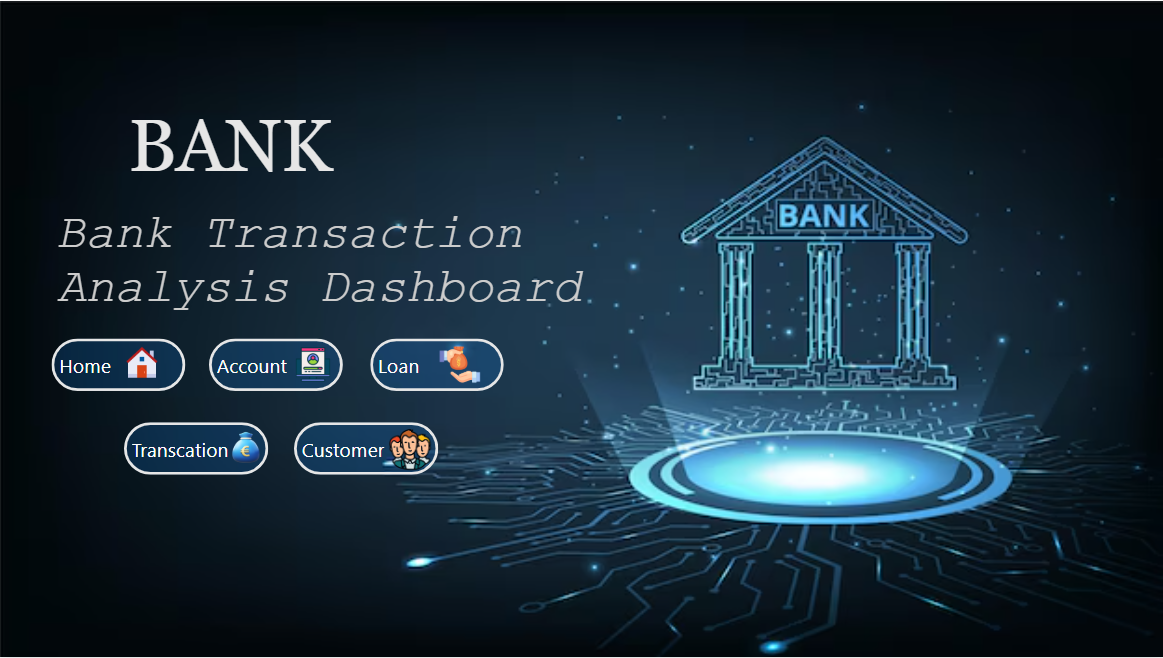

The dashboard page shown, as its layout file describes it:
{"tool":"powerbi","page":{"name":"Home page","canvas":[1280,720],"ordinal":1},"visuals":[{"type":"textbox","box":[137,108.1,353.2,128.3],"z":0},{"type":"textbox","box":[57.7,220.6,638.7,149.9],"z":1000},{"type":"shape","box":[57.7,370.5,147.1,57.7],"z":2000},{"type":"shape","box":[230.7,370.5,147.1,57.7],"z":3000},{"type":"image","box":[131.5,370.4,50.7,51.9],"z":4000},{"type":"image","box":[320.9,374,47.1,48.3],"z":5000},{"type":"shape","box":[407.8,370.4,147.2,57.9],"z":6000},{"type":"image","box":[470.5,371.6,70,54.3],"z":7000},{"type":"shape","box":[323.3,462.1,158,57.9],"z":8000},{"type":"shape","box":[137.5,462.1,158,57.9],"z":9000},{"type":"image","box":[421,462.1,60.3,61.5],"z":10000},{"type":"image","box":[244.9,465.7,54.3,51.9],"z":11000}]}

Visuals, with their boxes in screenshot pixels (x1, y1, x2, y2), scaled from the page's 1280x720 canvas onto the 1163x658 screenshot:
textbox: crop(124, 99, 445, 216)
textbox: crop(52, 202, 633, 339)
shape: crop(52, 339, 186, 391)
shape: crop(210, 339, 343, 391)
image: crop(119, 339, 166, 386)
image: crop(292, 342, 334, 386)
shape: crop(371, 339, 504, 391)
image: crop(427, 340, 491, 389)
shape: crop(294, 422, 437, 475)
shape: crop(125, 422, 268, 475)
image: crop(383, 422, 437, 479)
image: crop(223, 426, 272, 473)
